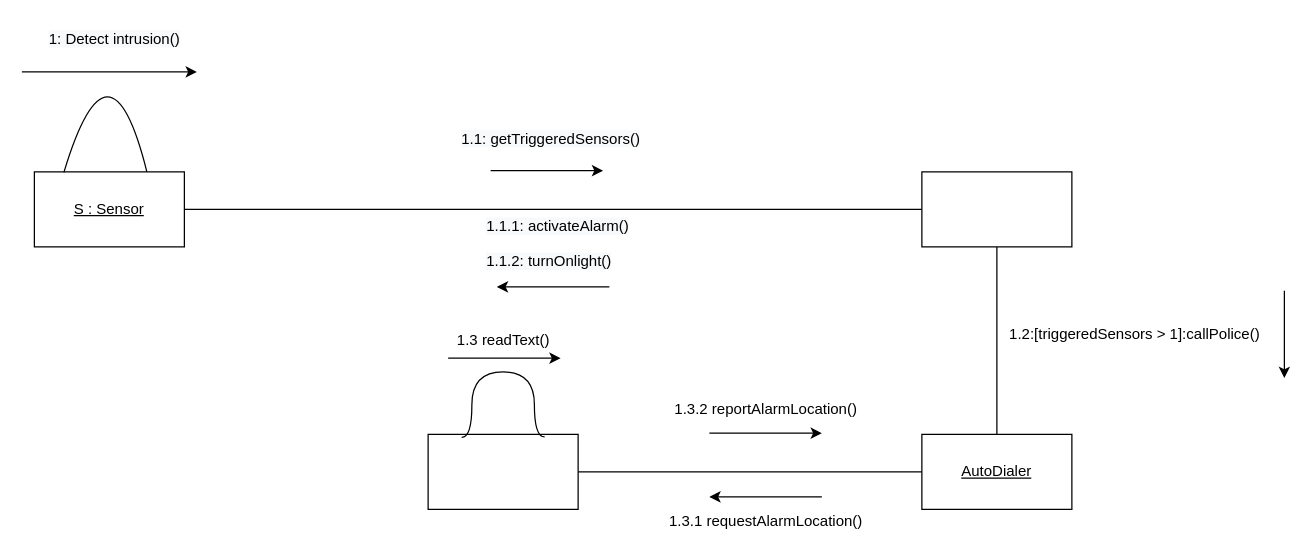
Image size: 1311x555. Some labels were removed from this diagram. The shapes that lost their labels are listed below. From the top down, each one's box as (x1, y1, x2, y2) in pixels, then its label:
(921, 171, 1072, 247): Processor
(427, 433, 578, 509): voiceSynthesizer
